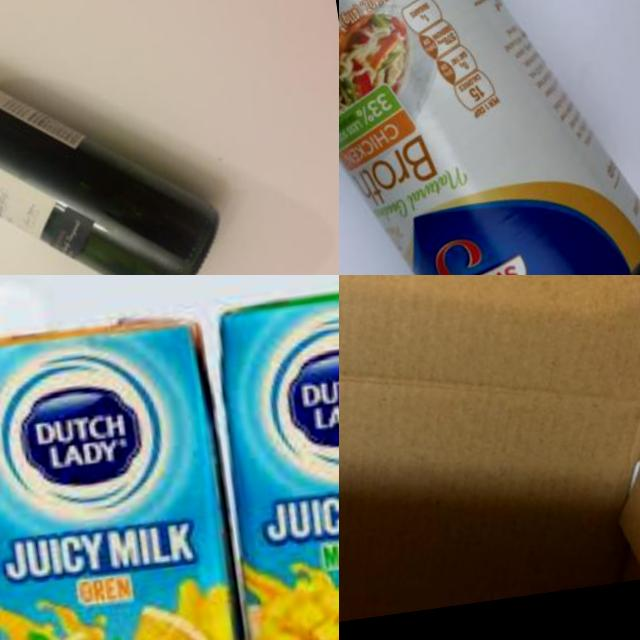caixinha: (0, 305, 264, 640), (211, 279, 339, 640)
garrafa de vidro: (0, 0, 231, 275)
lata: (339, 0, 640, 275)
papelão: (339, 275, 640, 640)
